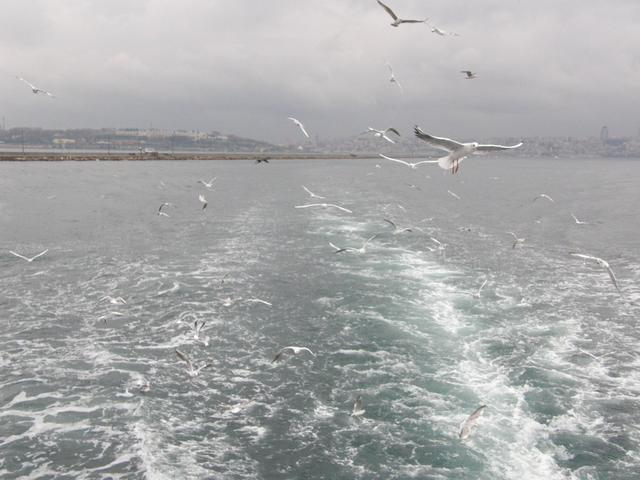bird: (405, 125, 536, 179), (7, 67, 68, 103), (370, 1, 434, 30)
